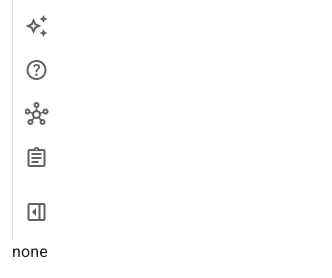
Test case: DvRightRail › opening one panel replaces the current one; the same icon closes it
Click the button named "Quick help": (36, 70) [18, 52, 54, 88]
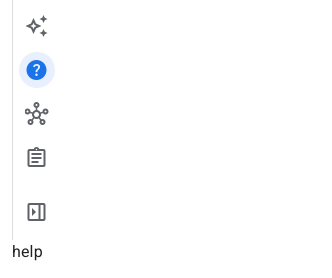
Now the text with test id "open" reads "help", box [12, 242, 43, 261]
Click the button named "Intelligence": (36, 114) [18, 96, 54, 132]
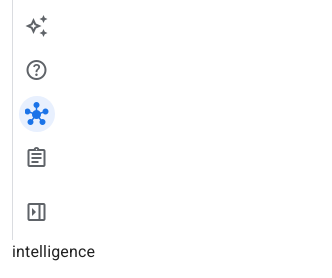
Now the text with test id "open" reads "intelligence", box [12, 242, 95, 261]
Click the button named "Intelligence": (36, 114) [18, 96, 54, 132]
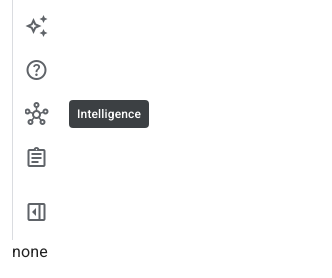
Now the text with test id "open" reads "none", box [12, 242, 48, 261]
